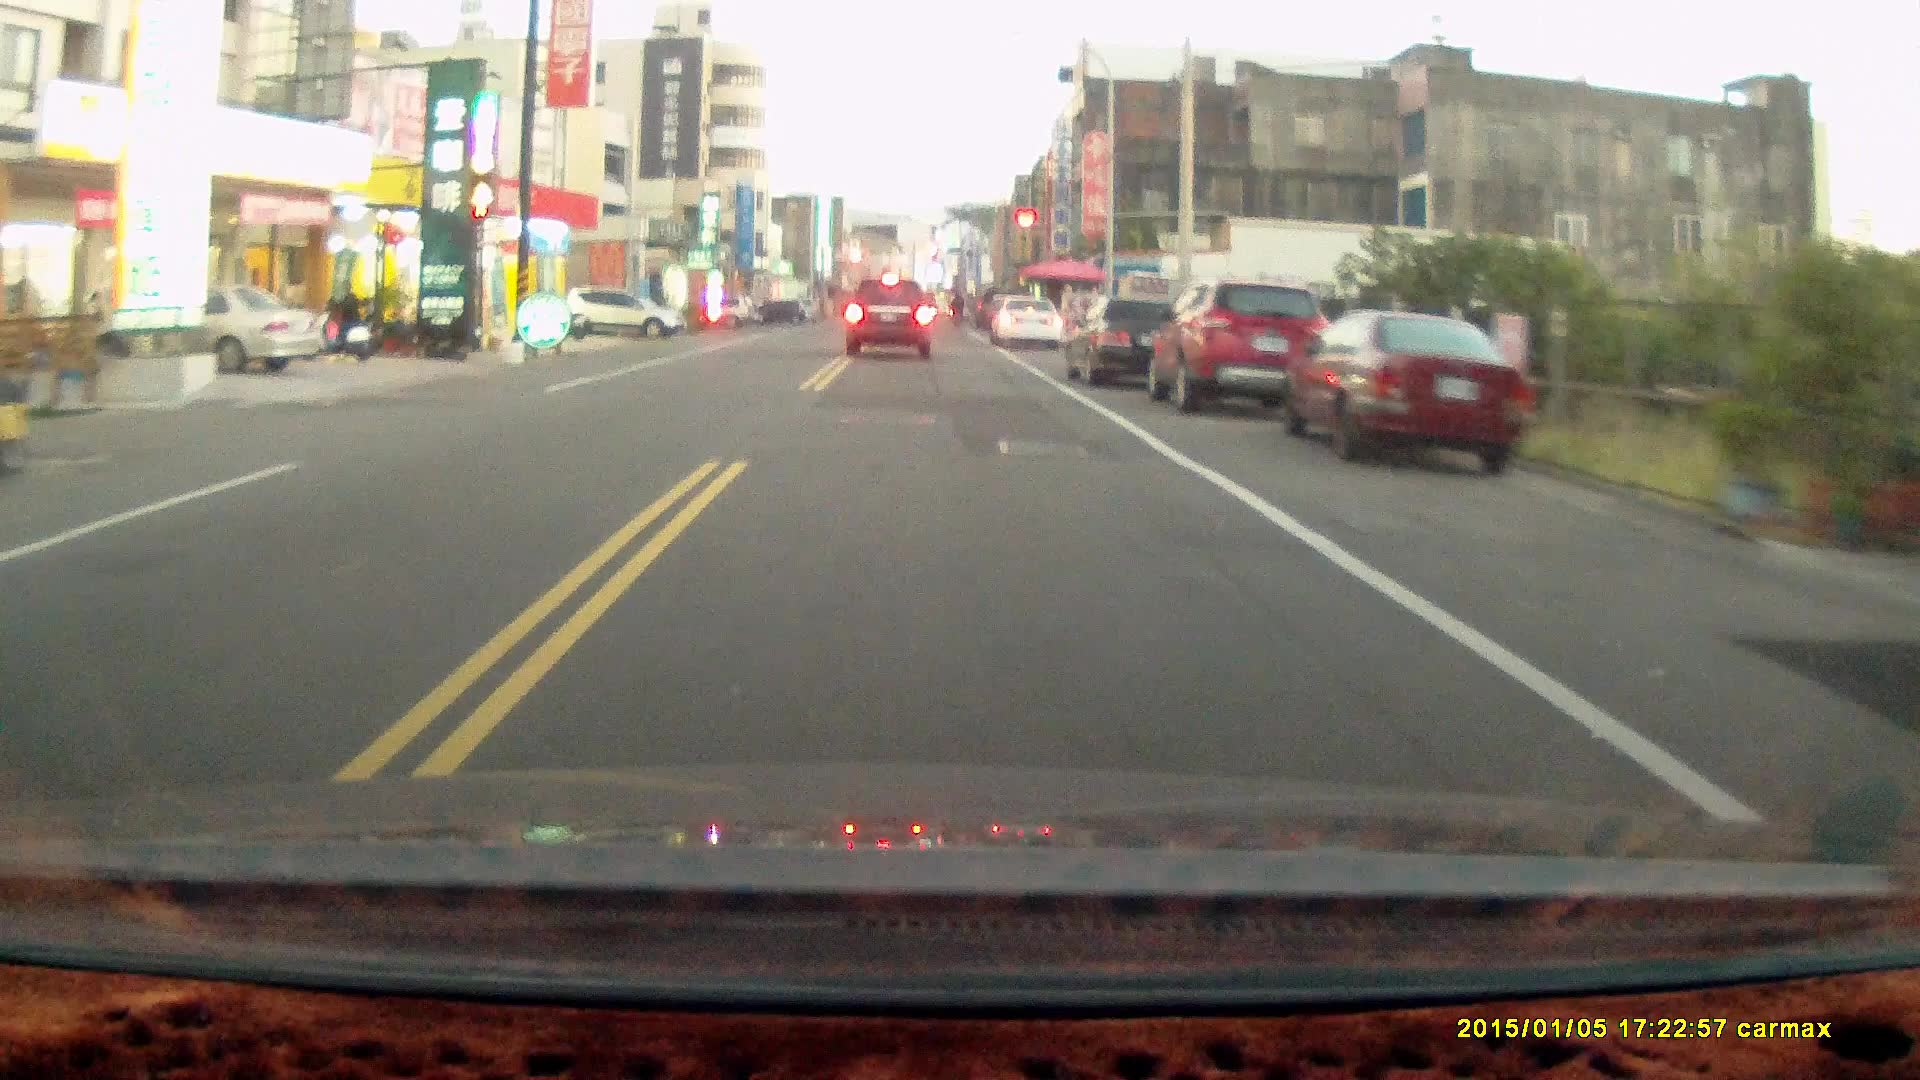vehicle: (1280, 305, 1538, 473), (1153, 276, 1344, 411), (102, 284, 319, 377), (1065, 295, 1197, 385), (845, 276, 939, 357), (564, 286, 686, 340), (992, 295, 1065, 353)
